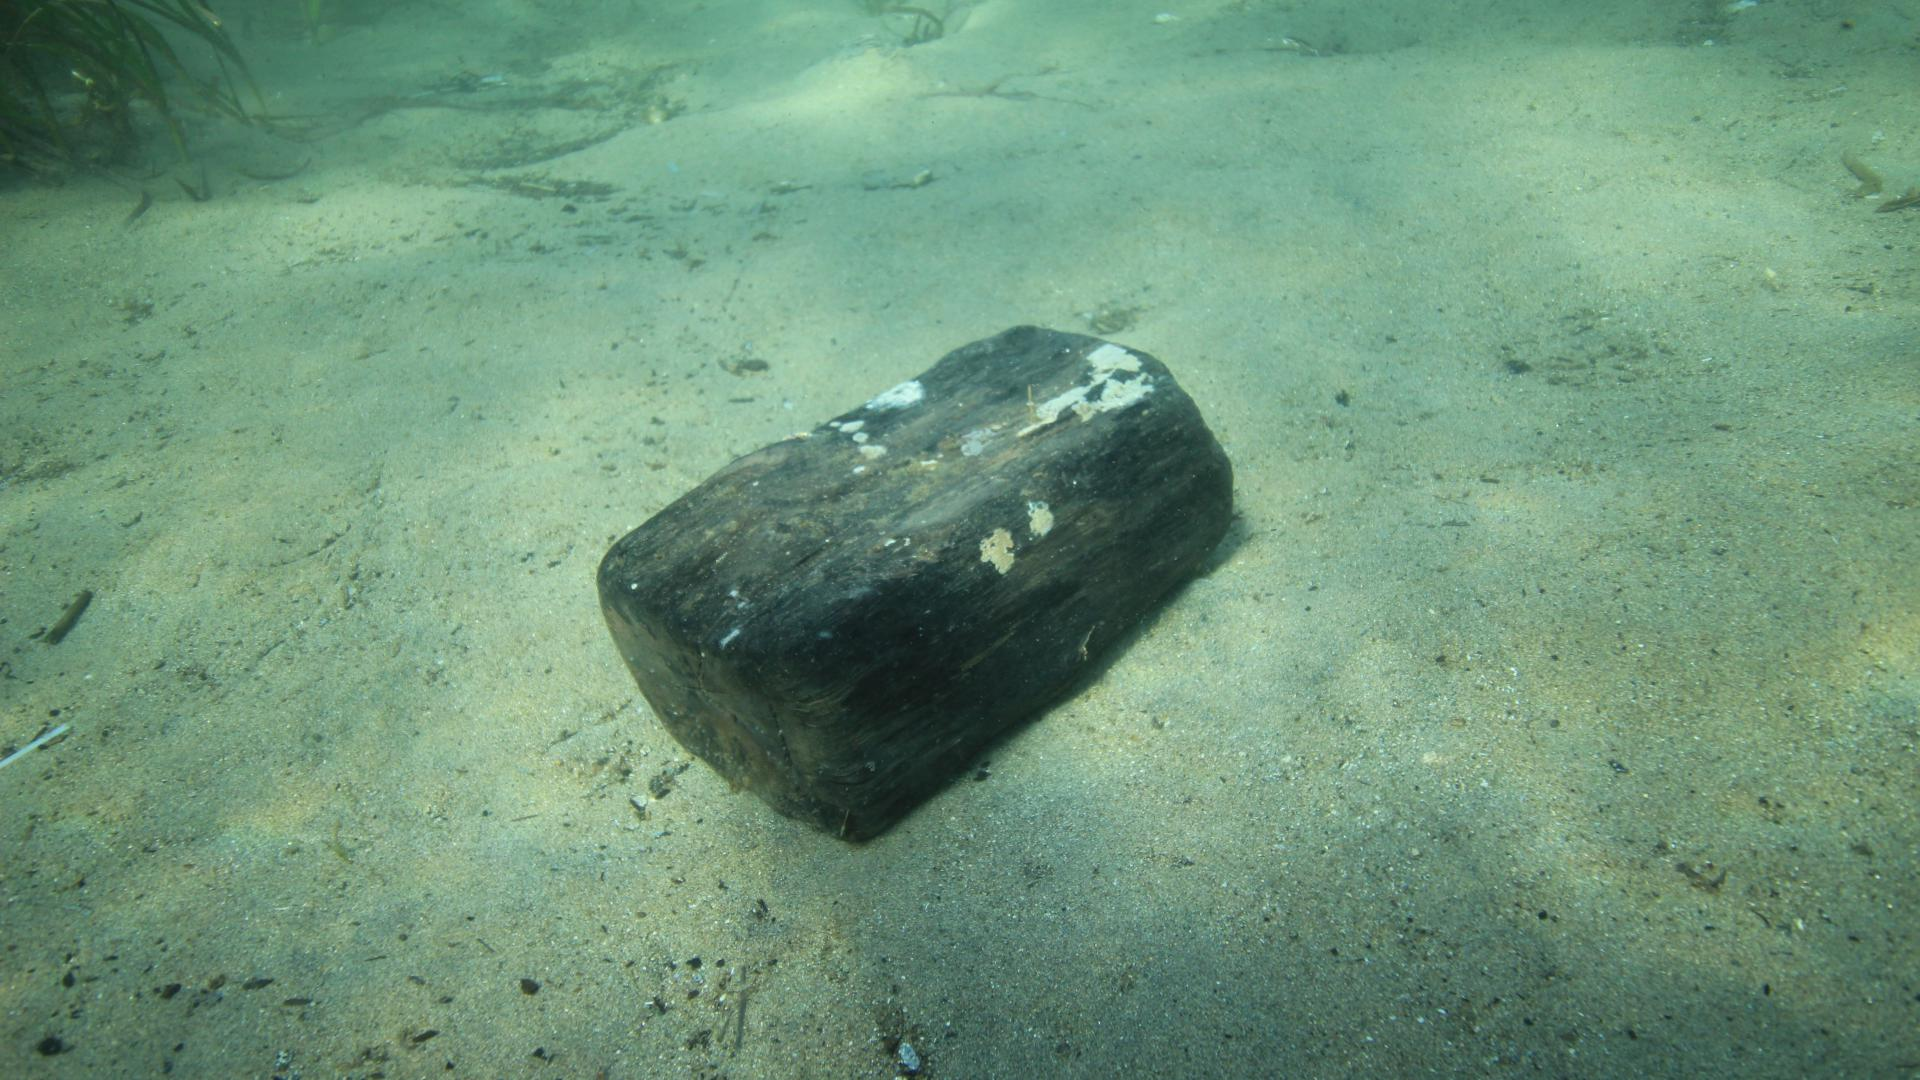wood: (596, 323, 1233, 843)
